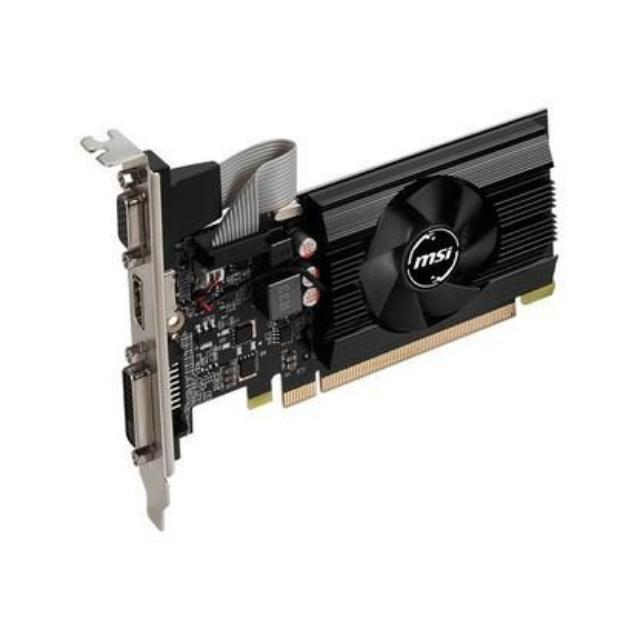GPU: (104, 100, 566, 438)
